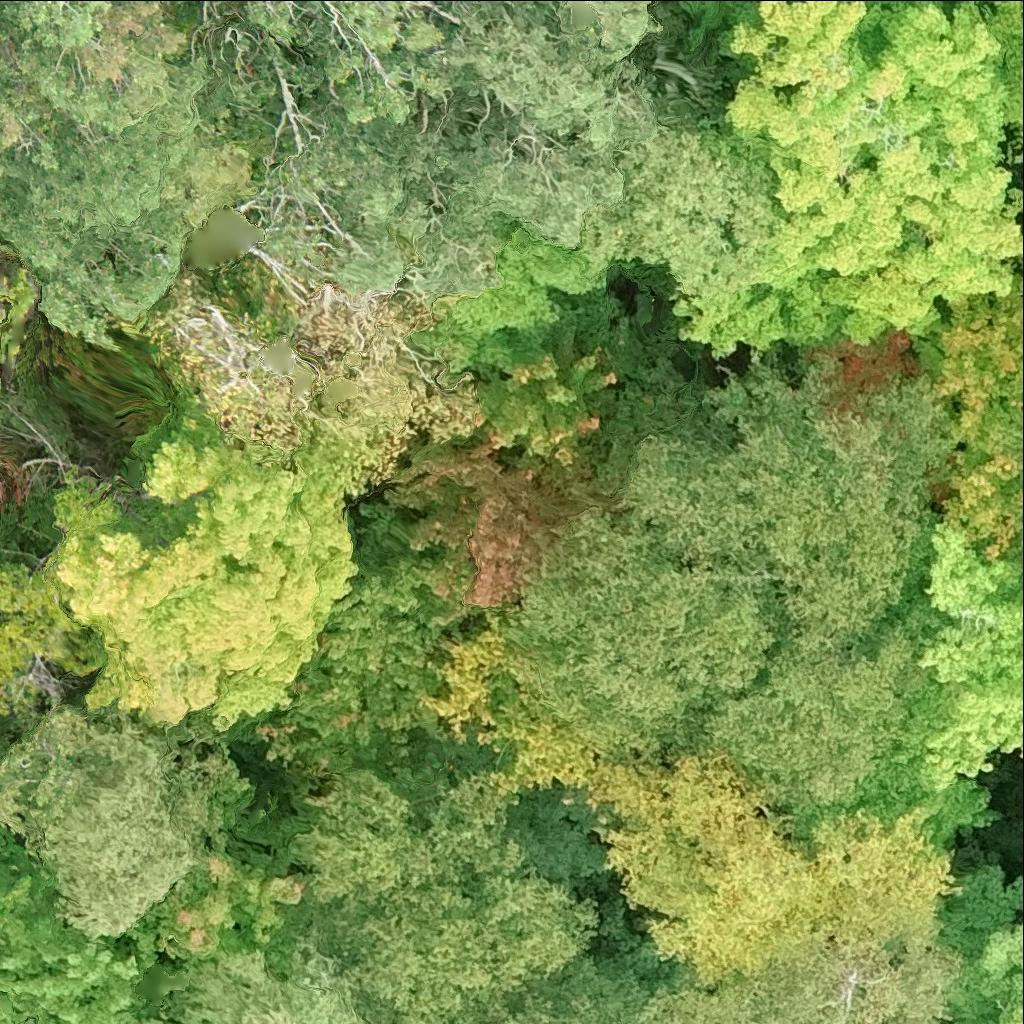crown: (153, 0, 662, 324), (0, 386, 381, 733), (677, 0, 1023, 359), (617, 367, 957, 661), (0, 0, 254, 338), (512, 508, 775, 756), (257, 542, 528, 775), (248, 0, 658, 144), (0, 706, 248, 936), (262, 251, 481, 484), (295, 864, 599, 1023), (386, 422, 629, 606), (909, 252, 1023, 591), (704, 623, 910, 808), (582, 128, 779, 306), (154, 275, 324, 472), (291, 774, 523, 902), (418, 229, 608, 381), (918, 524, 1023, 788), (641, 938, 964, 1023), (0, 871, 140, 1023), (123, 850, 304, 963), (476, 354, 618, 464), (158, 954, 371, 1023), (938, 863, 1023, 1023), (457, 952, 642, 1023), (993, 0, 1023, 123), (211, 0, 228, 7), (0, 311, 3, 339)
